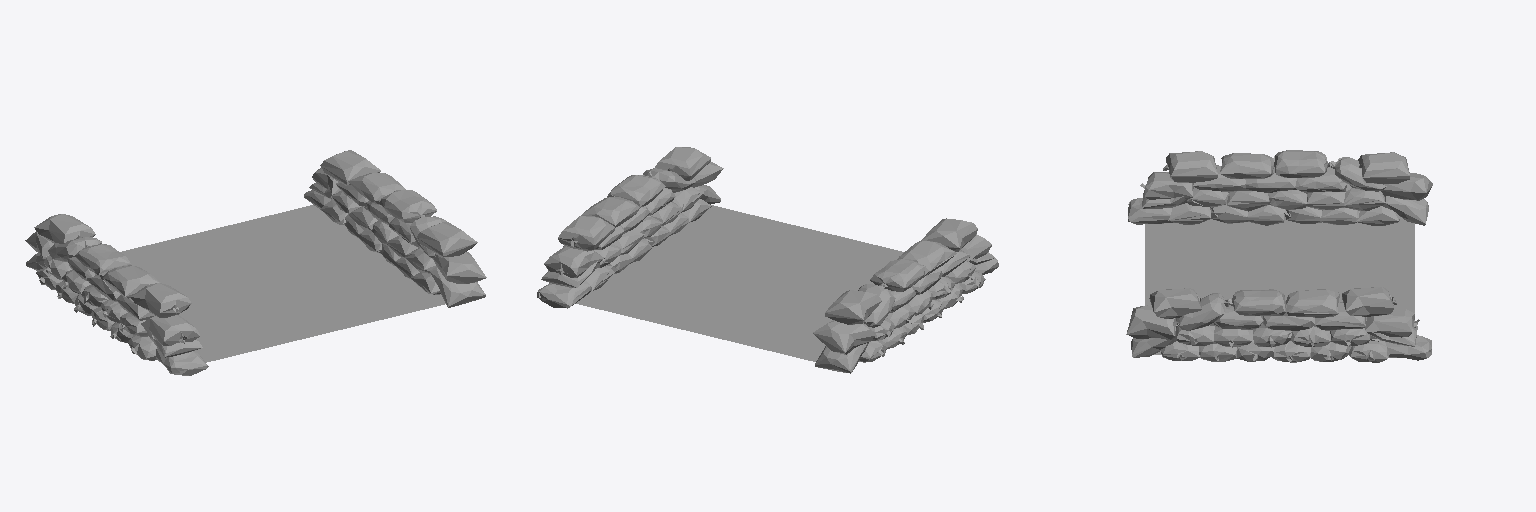
The picture shows the model from 3 angles: view 1: azimuth 30°, elevation 25°; view 2: azimuth 150°, elevation 25°; view 3: azimuth 270°, elevation 25°; orthographic projection.
Parts seen in each view (by area): view 1: Plane, sandbags_01, sandbags_01.001; view 2: Plane, sandbags_01, sandbags_01.001; view 3: sandbags_01.001, sandbags_01, Plane.
Boxes of the visible parts, x1=… form: Plane: x1=120, y1=205, x2=445, y2=362; sandbags_01: x1=25, y1=214, x2=208, y2=375; sandbags_01.001: x1=304, y1=150, x2=486, y2=307; Plane: x1=576, y1=205, x2=903, y2=361; sandbags_01: x1=813, y1=218, x2=998, y2=373; sandbags_01.001: x1=537, y1=147, x2=723, y2=308; sandbags_01.001: x1=1126, y1=287, x2=1431, y2=362; sandbags_01: x1=1128, y1=150, x2=1432, y2=225; Plane: x1=1145, y1=217, x2=1414, y2=354.
Bounding box in the file's own units: 6.34 × 1.15 × 4.94.